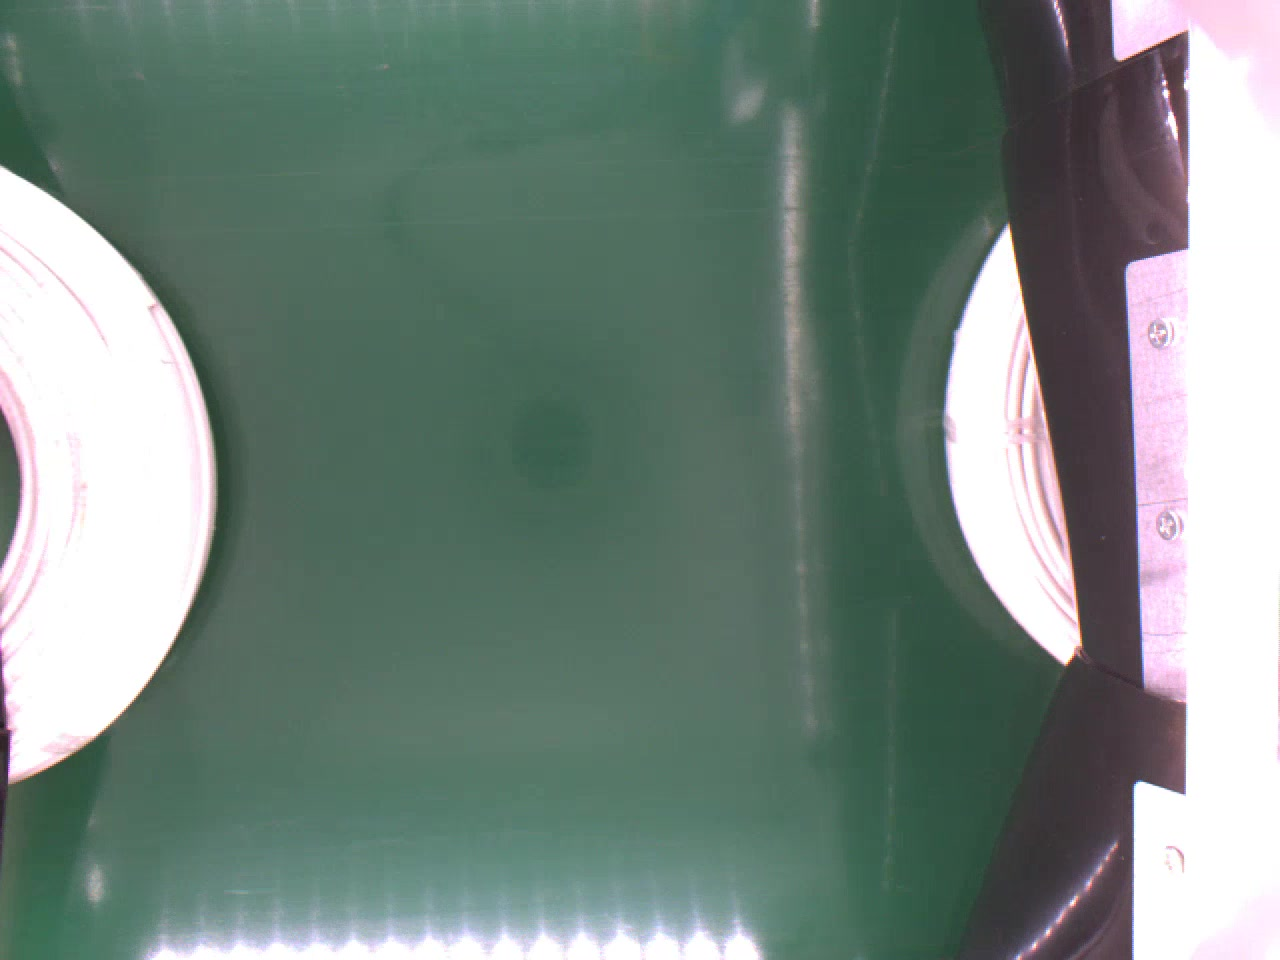white: (0, 164, 220, 787), (947, 221, 1074, 670)
